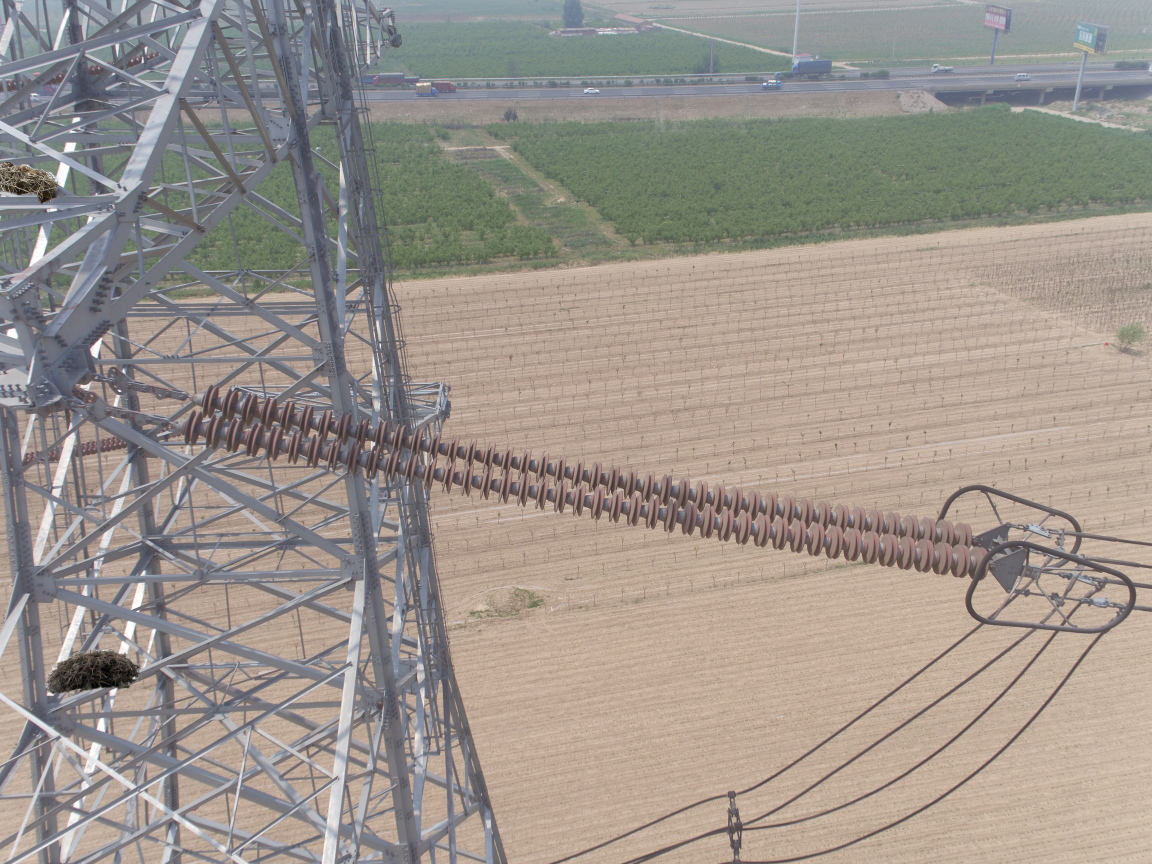nest: (43, 648, 138, 698), (2, 154, 61, 205)
